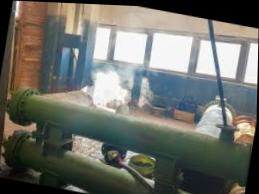leak: (74, 60, 133, 106)
